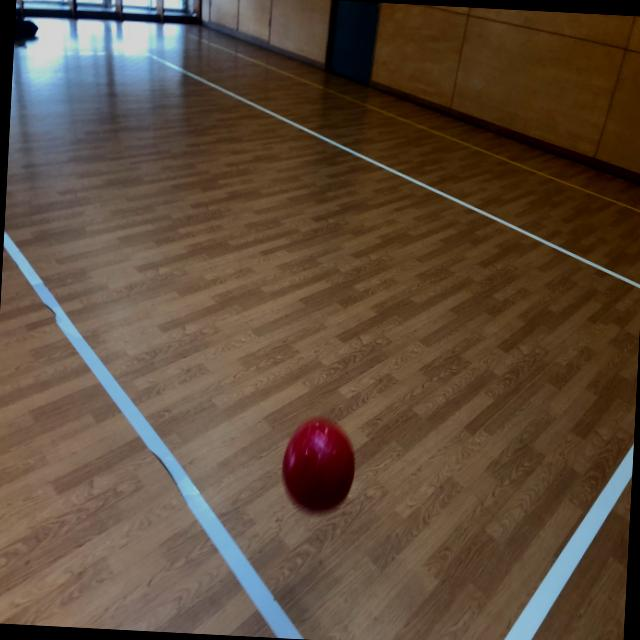red_ball: (278, 418, 358, 514)
